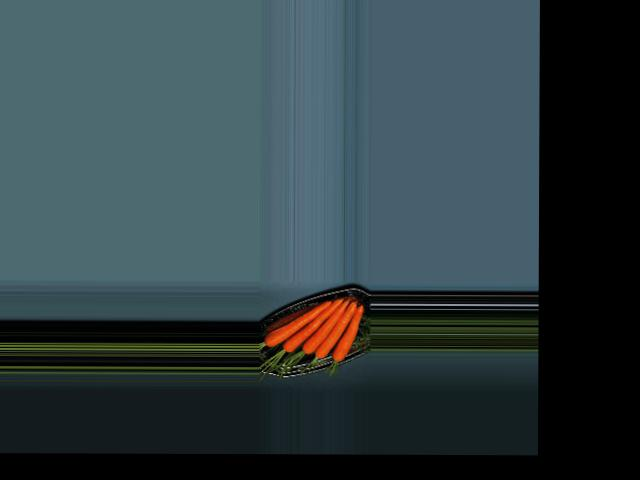carrot: (337, 304, 365, 361)
